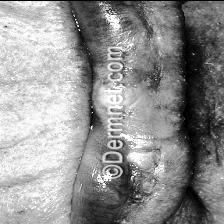Potentially Malignant Skin Tumors: (97, 80, 136, 110), (126, 146, 159, 170)
